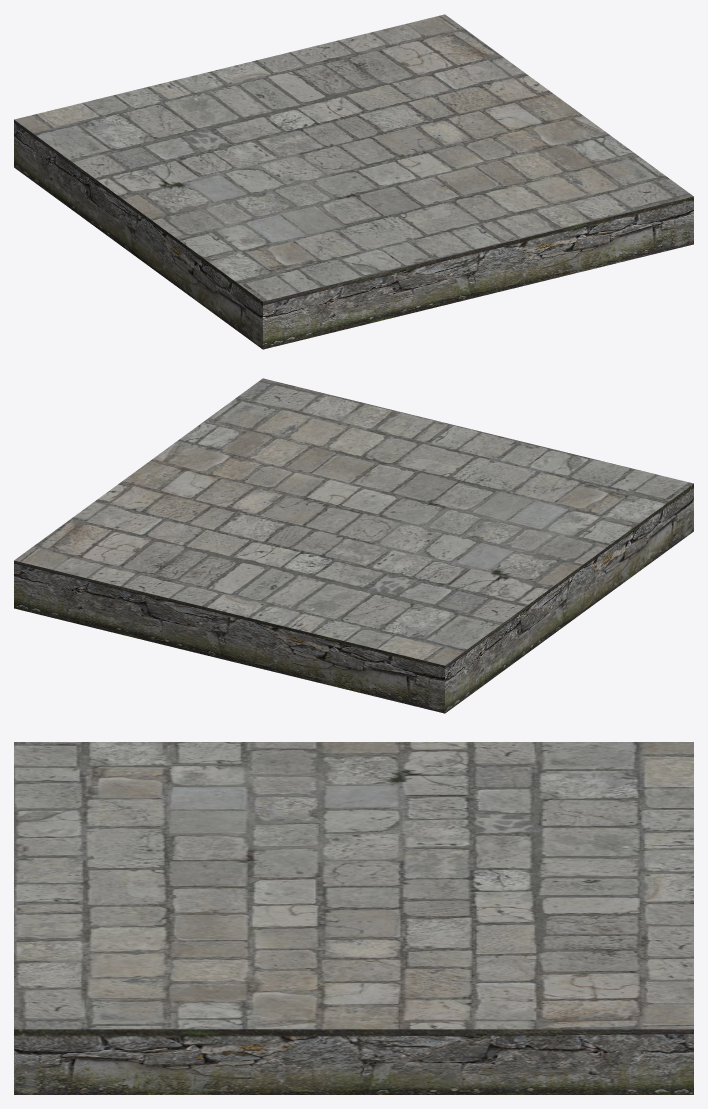
File: PavementPieces04.fbx
3 renders of one model, top to bottom at view 1: azimuth 30°, elevation 25°; view 2: azimuth 150°, elevation 25°; view 3: azimuth 270°, elevation 25°, orthographic. The views are drawn at different scales.
Visible parts, largest first — view 1: PavementPieces04; view 2: PavementPieces04; view 3: PavementPieces04.
Boxes of the visible parts, box(x1,y1,x2,y2) form: PavementPieces04: box(14, 14, 693, 349); PavementPieces04: box(14, 378, 693, 713); PavementPieces04: box(14, 742, 693, 1094).
Bounding box in the file's own units: 128 × 13.59 × 128.
